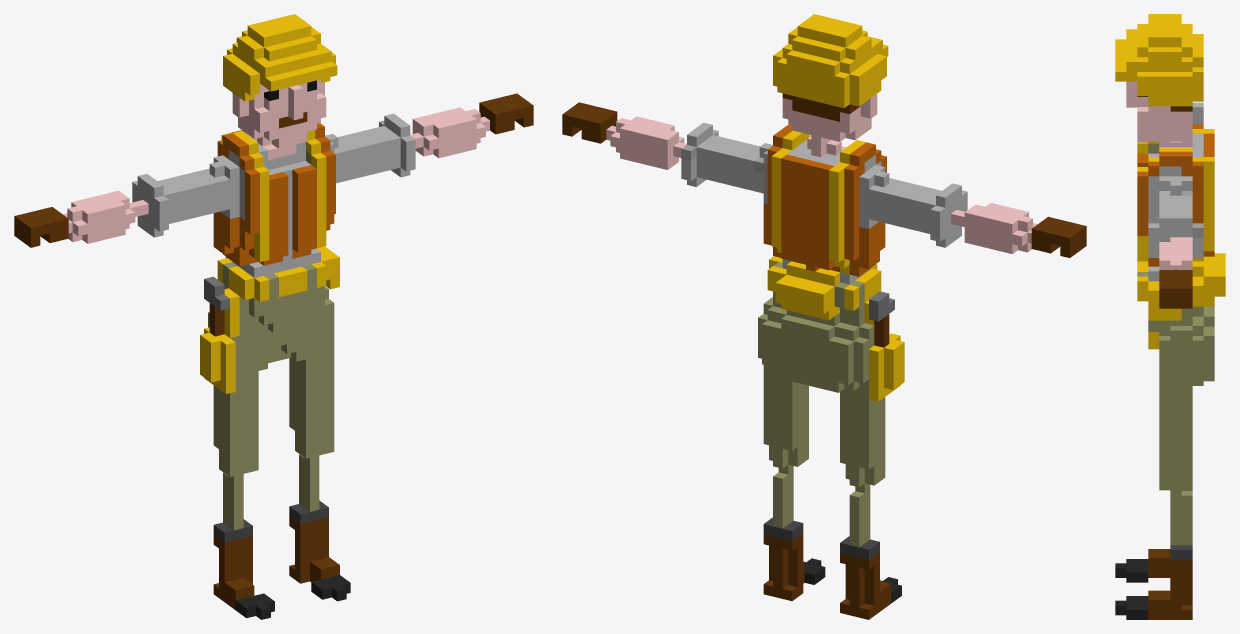
Rendered from worker.obj.
The picture shows the model from 3 angles, left to right: view 1: azimuth 30°, elevation 25°; view 2: azimuth 150°, elevation 25°; view 3: azimuth 270°, elevation 25°; orthographic projection.
Bounding box in the file's own units: 5.3 × 5.7 × 1.
Materials: 1 (1 with a texture image).
